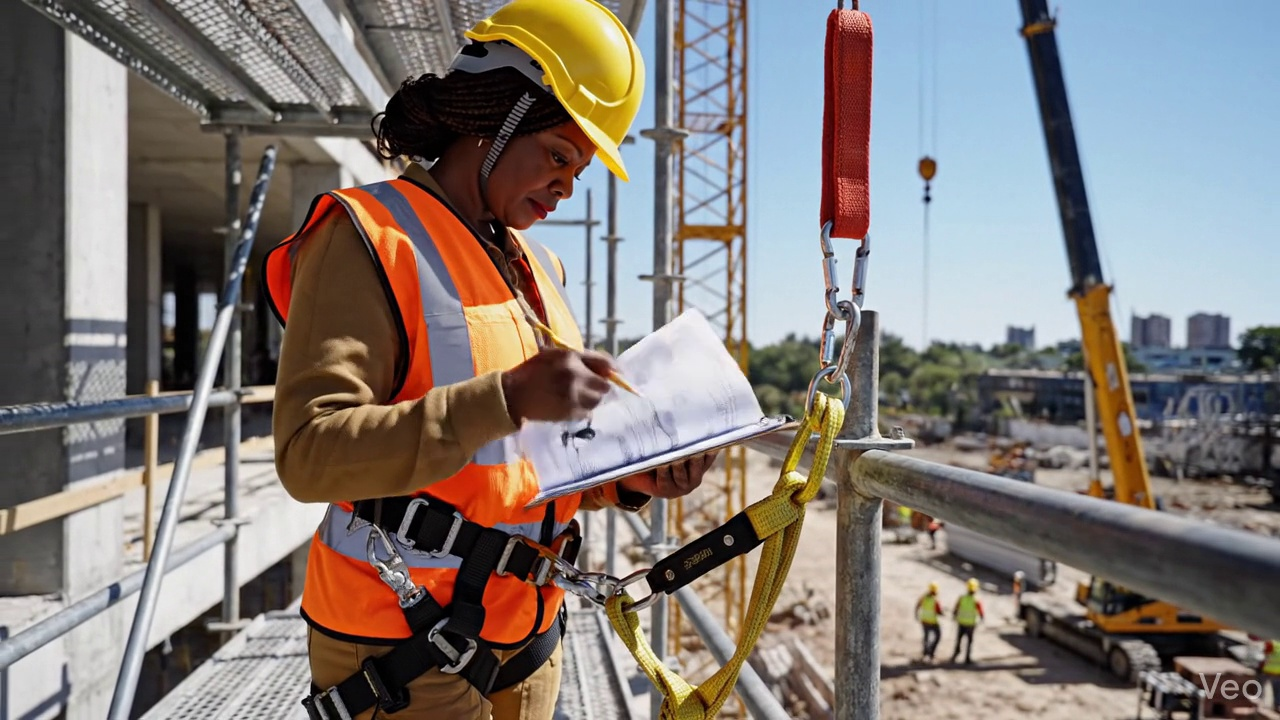p: (264, 0, 713, 719)
